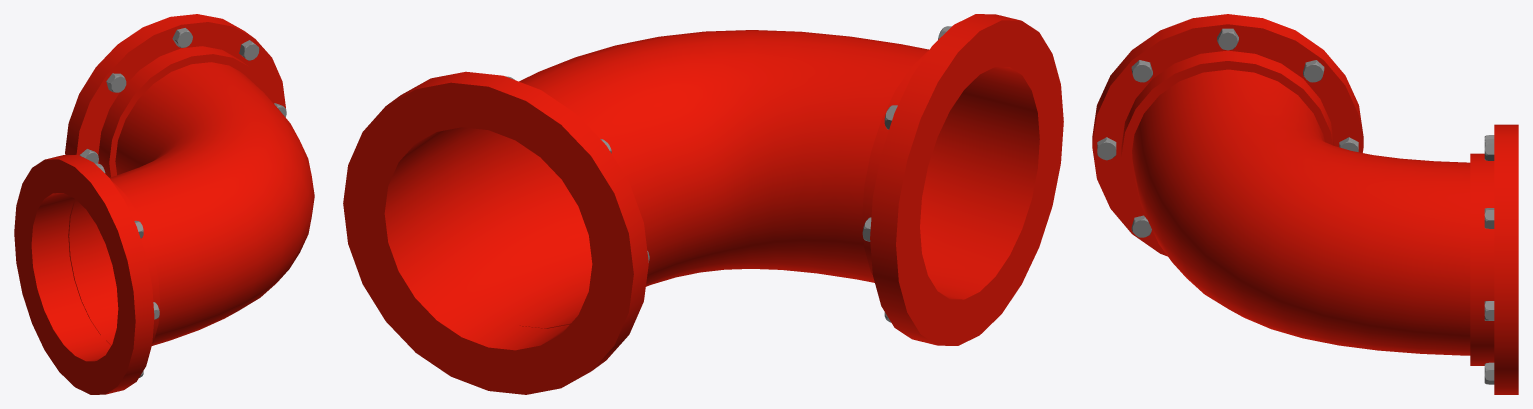
Rendered from Pipe_200_Corner.fbx.
The picture shows the model from 3 angles, left to right: view 1: azimuth 30°, elevation 25°; view 2: azimuth 150°, elevation 25°; view 3: azimuth 270°, elevation 25°; orthographic projection. The views are drawn at different scales.
Parts seen in each view (by area): view 1: Pipe_200_Corner; view 2: Pipe_200_Corner; view 3: Pipe_200_Corner.
Boxes of the visible parts, bbox=[...] form: Pipe_200_Corner: bbox=[14, 14, 314, 394]; Pipe_200_Corner: bbox=[343, 14, 1063, 394]; Pipe_200_Corner: bbox=[1092, 14, 1518, 394].
Size of the model in its own units: 0.44 by 0.28 by 0.44.
